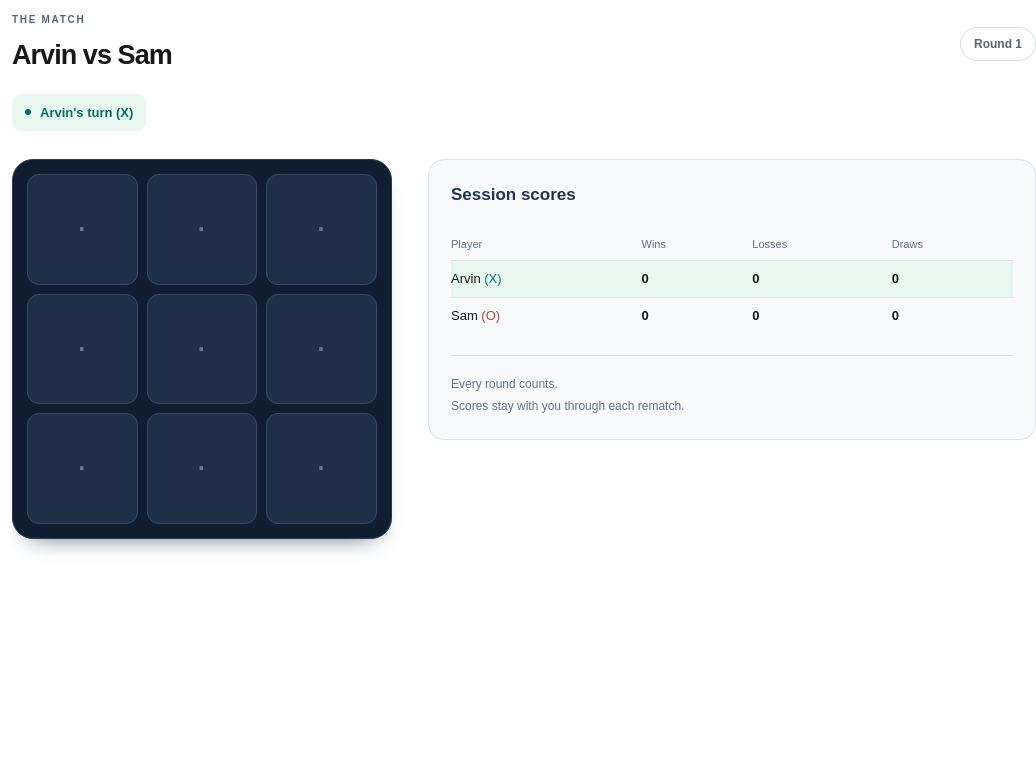
Test case: does not resend a saved move when the following state refresh fails
Click the button named "Row 1, column 1: empty": (82, 229) [27,174,138,285]
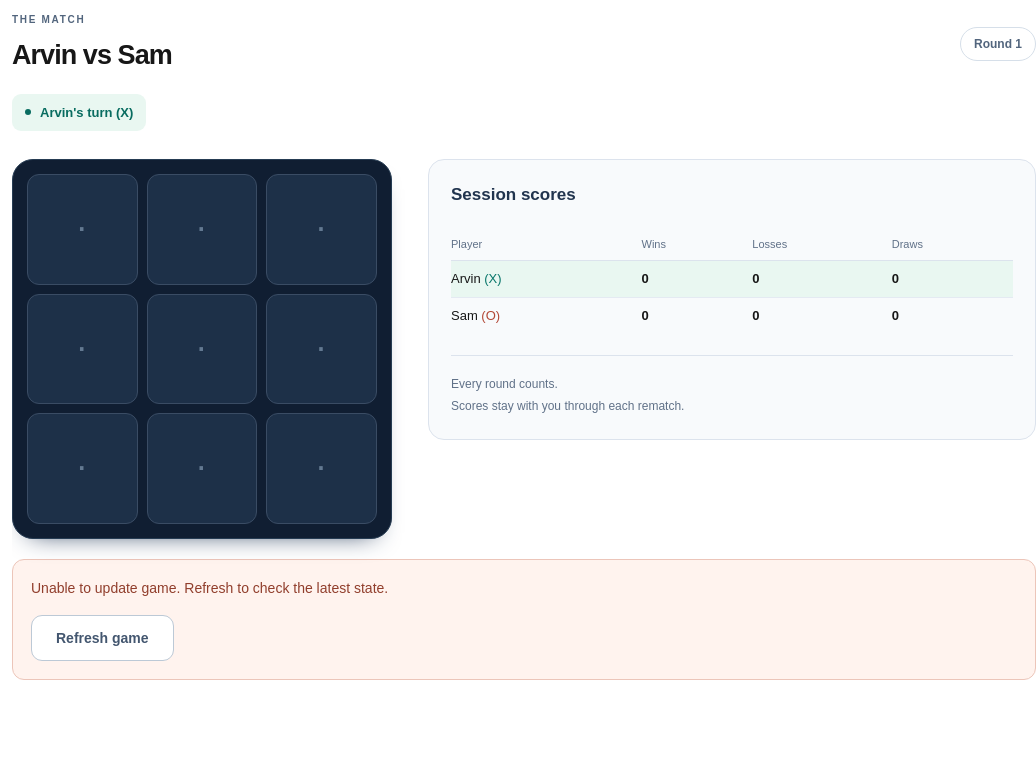
Expected: the message "Unable to update game. Refresh to check the latest state." is shown, [31,580,388,596]
Click the button "Refresh game": (102, 638) [31,615,174,661]
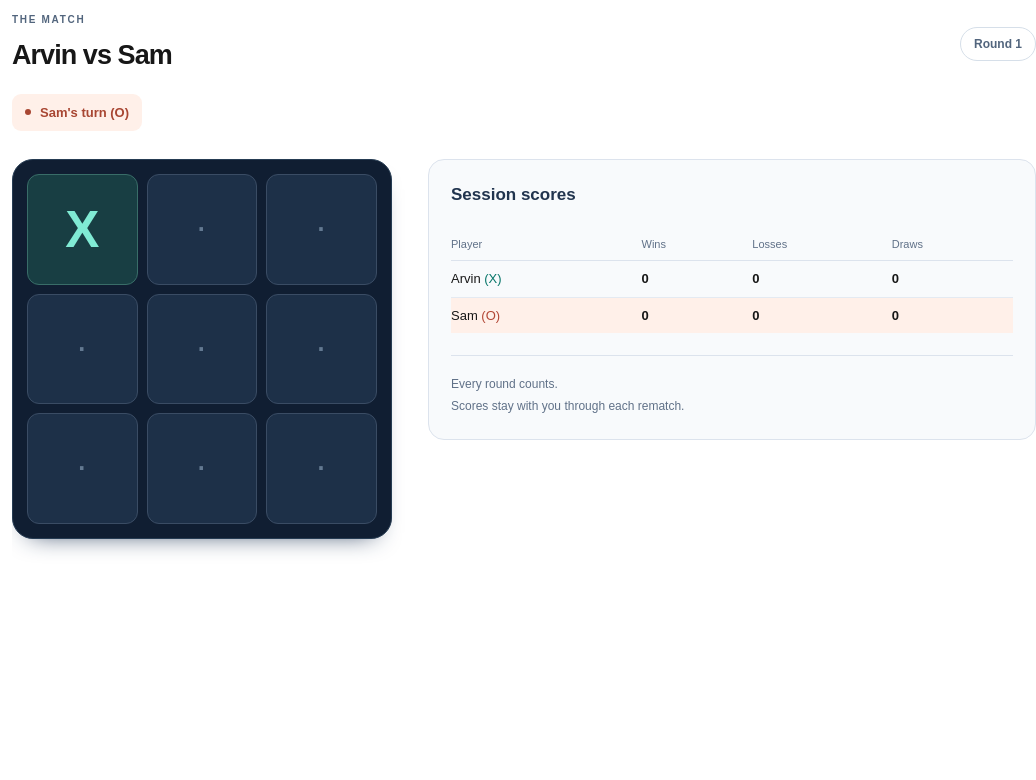
Expected: the button named "Row 1, column 1: X" is disabled, [27,174,138,285]
Expected: the message reads "Sam's turn (O)", [40,104,129,120]
